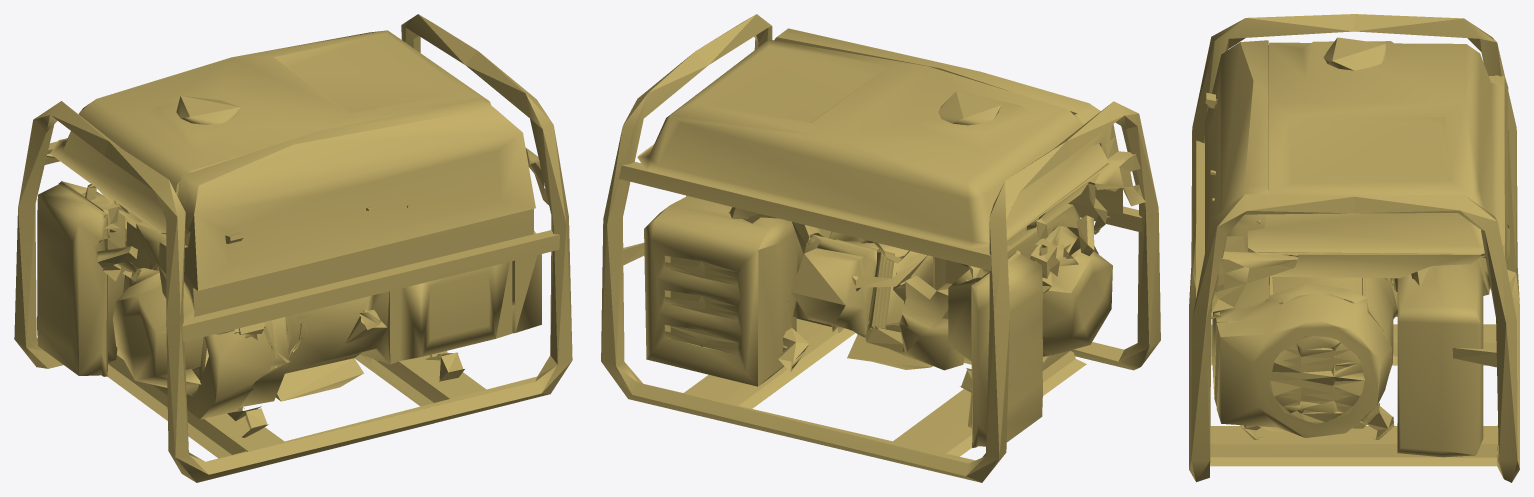
The model's file is Dress_Generator.fbx.
3 renders of one model, left to right at view 1: azimuth 30°, elevation 25°; view 2: azimuth 150°, elevation 25°; view 3: azimuth 270°, elevation 25°, orthographic.
Visible parts, largest first — view 1: Dress_Generator; view 2: Dress_Generator; view 3: Dress_Generator.
Part boxes in pixels (x1,y1,x2,y2): Dress_Generator: (14, 14, 572, 482); Dress_Generator: (601, 14, 1160, 482); Dress_Generator: (1189, 14, 1519, 482).
Size of the model in its own units: 81.4 by 57.81 by 56.65.
